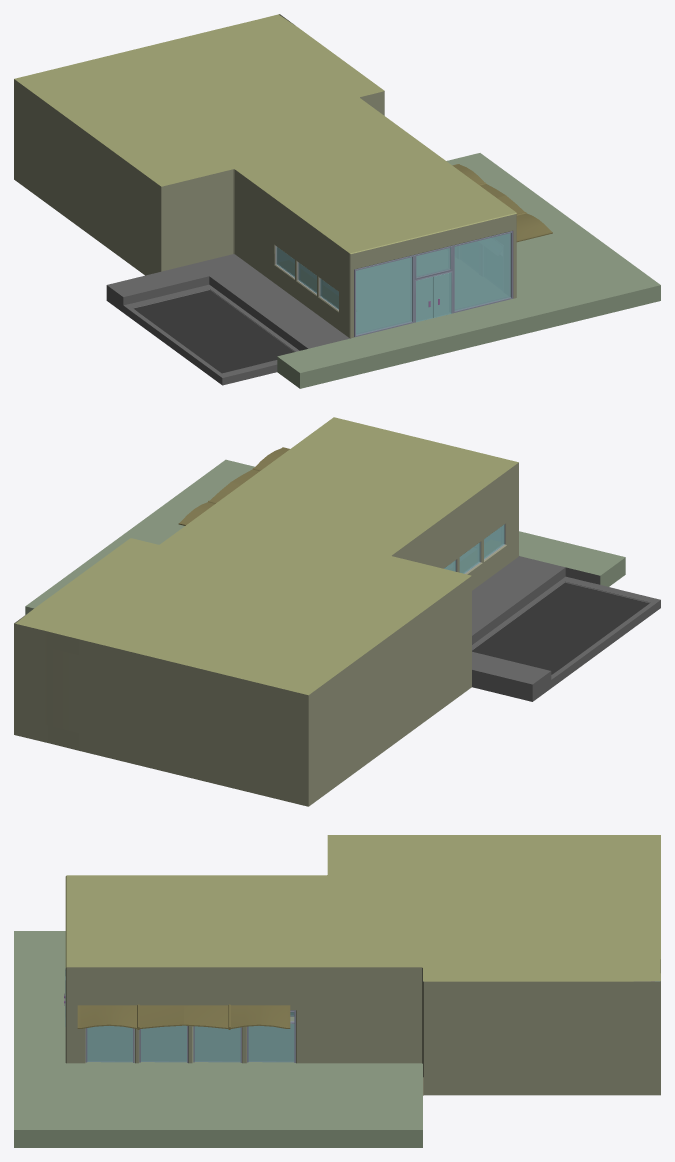
The model's file is Building_WithUV20052023.fbx.
The picture shows the model from 3 angles, top to bottom: view 1: azimuth 30°, elevation 25°; view 2: azimuth 150°, elevation 25°; view 3: azimuth 270°, elevation 25°; orthographic projection. The views are drawn at different scales.
Visible parts, largest first — view 1: Building, FrontWall1, OutsideRoof, FrontDoor_R, FrontDoor_L; view 2: Building, OutsideRoof; view 3: Building, GlassWall_S_Window (×4), OutsideRoof.
Boxes of the visible parts, <box> form: Building: <box>14,14,660,388</box>; FrontWall1: <box>354,231,512,337</box>; OutsideRoof: <box>452,164,552,242</box>; FrontDoor_R: <box>433,272,451,317</box>; FrontDoor_L: <box>416,276,433,322</box>; Building: <box>14,417,660,806</box>; OutsideRoof: <box>178,447,289,525</box>; Building: <box>14,835,660,1147</box>; GlassWall_S_Window (×4): <box>85,1010,295,1062</box>; OutsideRoof: <box>77,1004,290,1029</box>.
Size of the model in its own units: 2279 by 527 by 2718.
